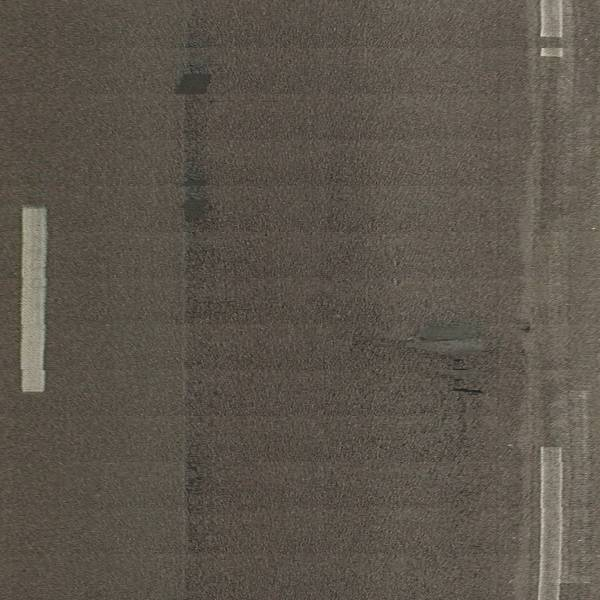road_damage: (405, 317, 498, 407), (178, 167, 217, 238), (173, 67, 219, 101)
